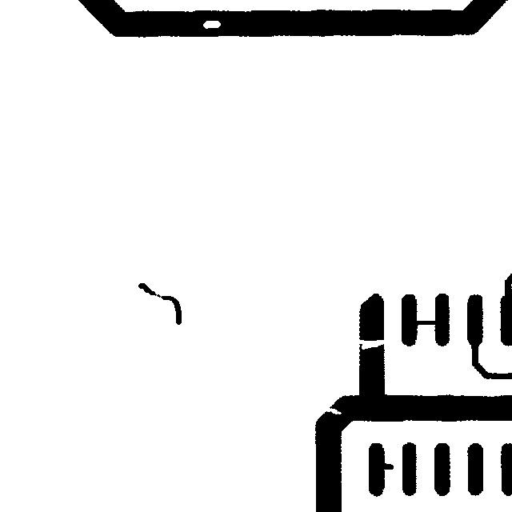copper: (130, 275, 189, 332)
mousebite: (316, 399, 349, 422)
open: (345, 330, 394, 357)
pin-hole: (195, 13, 228, 36)
short: (407, 313, 444, 333)
spur: (374, 455, 401, 477)
